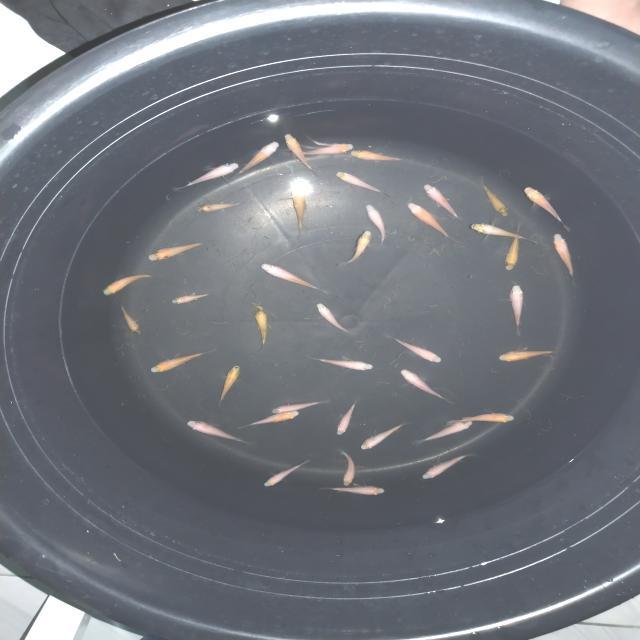nila: (252, 259, 324, 293), (182, 416, 254, 449), (520, 186, 568, 230), (175, 160, 244, 190), (275, 130, 318, 177), (403, 200, 451, 242), (236, 138, 285, 178), (411, 418, 476, 448), (395, 365, 447, 402), (388, 334, 447, 365), (417, 450, 476, 481), (148, 349, 212, 377), (284, 178, 313, 238), (332, 166, 388, 196), (549, 229, 580, 283), (356, 420, 408, 452), (338, 228, 376, 271), (419, 182, 461, 220), (310, 300, 354, 336), (260, 459, 309, 491), (100, 271, 154, 300), (239, 408, 304, 432), (144, 240, 211, 263), (330, 444, 364, 489), (496, 342, 558, 365), (212, 362, 244, 406), (442, 408, 520, 426), (500, 226, 528, 276), (468, 220, 527, 243), (307, 354, 377, 373), (264, 398, 333, 417), (478, 178, 508, 220), (346, 146, 415, 164), (293, 140, 357, 159), (248, 302, 272, 352), (504, 282, 526, 335), (364, 200, 387, 250), (114, 302, 146, 336), (320, 482, 388, 497), (334, 400, 360, 438), (168, 288, 216, 308), (192, 200, 244, 214)
